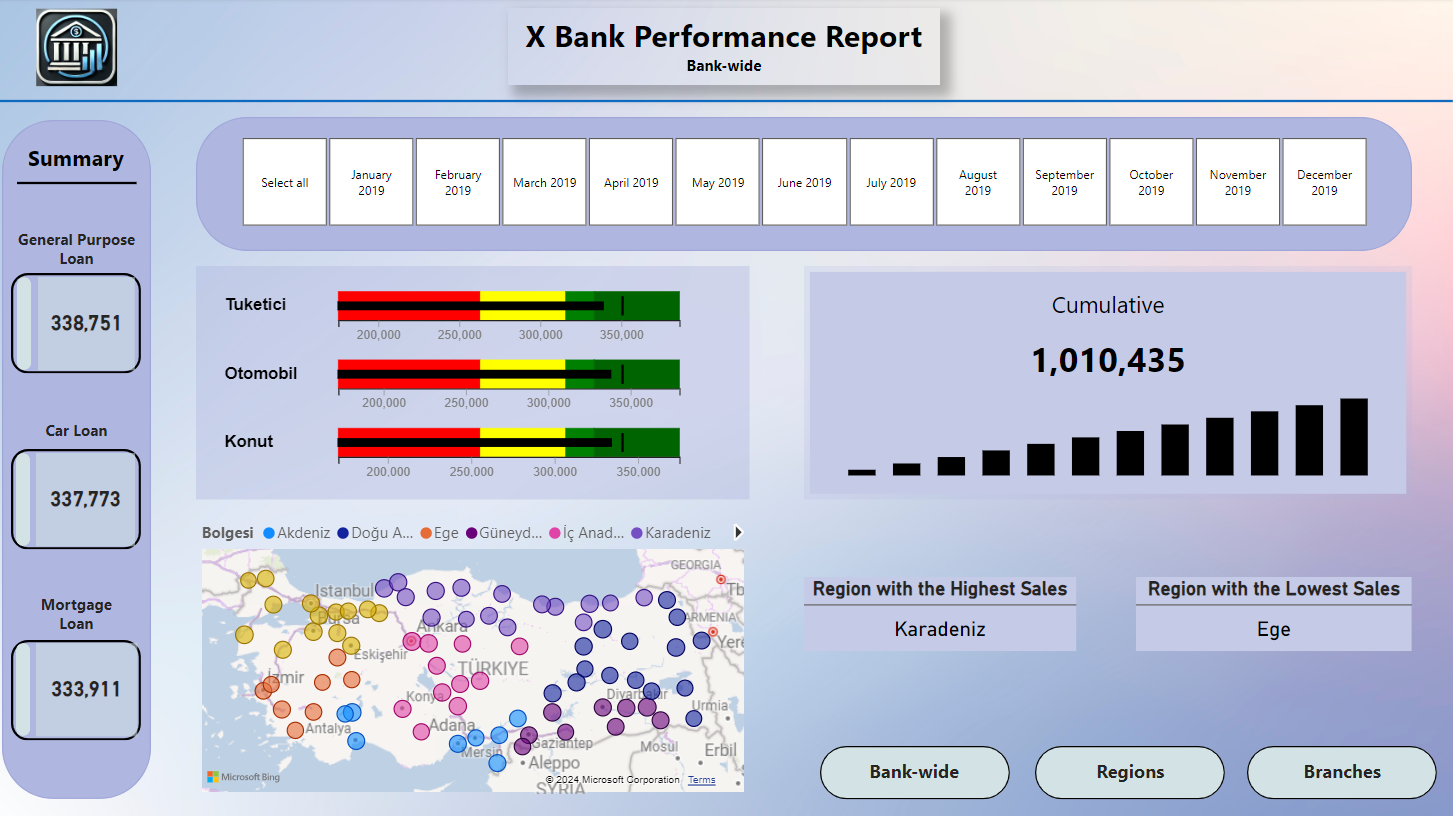

This screenshot's page, from the dashboard's own definition file:
{"tool":"powerbi","page":{"name":"Bank","canvas":[1280,720],"ordinal":0},"visuals":[{"type":"textbox","box":[450.4,8.8,379.3,68.5],"z":0},{"type":"shape","box":[0,58,1280.2,65],"z":1000},{"type":"shape","box":[6.1,107.1,130.8,596.2],"z":2000},{"type":"textbox","box":[14.2,123.3,114.2,39.2],"z":3000},{"type":"shape","box":[19.3,147.5,105.4,29.9],"z":4000},{"type":"shape","box":[14.2,241.7,114.2,88.3],"z":5000},{"type":"shape","box":[14.2,396.2,114.2,88.3],"z":6000},{"type":"shape","box":[14.2,563.3,114.2,88.3],"z":7000},{"type":"textbox","box":[7.5,197.5,127.5,49.2],"z":8000},{"type":"shape","box":[19.2,245,12.5,81.7],"z":9000},{"type":"shape","box":[18.3,399.5,12.5,81.7],"z":10000},{"type":"shape","box":[18.3,566.7,12.5,81.7],"z":11000},{"type":"textbox","box":[30,365.4,83.3,30.8],"z":12000},{"type":"image","box":[20,4.2,102.5,78.3],"z":13000},{"type":"textbox","box":[20,518.3,102.5,45],"z":14000},{"type":"shape","box":[1099.2,656.7,166.7,46.7],"z":15000},{"type":"shape","box":[913.3,656.7,166.7,46.7],"z":16000},{"type":"shape","box":[724.2,656.7,166.7,46.7],"z":17000},{"type":"textbox","box":[745.8,663.3,123.3,33.3],"z":18000},{"type":"textbox","box":[935,663.3,123.3,33.3],"z":19000},{"type":"textbox","box":[1120.8,663.3,123.3,33.3],"z":20000},{"type":"card","fields":{"Values":["Measurements.General Purpose Loan Sales"]},"box":[37.8,245,85.2,81.7],"z":21000},{"type":"card","fields":{"Values":["Measurements.Car Loan Sales"]},"box":[36,399.5,86.9,81.7],"z":22000},{"type":"card","fields":{"Values":["Measurements.Mortgage Loan Sales"]},"box":[36,566.3,88.7,81.7],"z":23000},{"type":"shape","box":[176.5,104.5,1067.7,117.7],"z":24000},{"type":"slicer","fields":{"Values":["Loans.Ay"]},"box":[191.4,115.9,1037,91.3],"z":25000},{"type":"BulletChart1443347686880","fields":{"Value":["Measurements.Total Loan Sales"],"TargetValue":["Measurements.Total Loan Target"],"Category":["Loans.Kategori"]},"box":[176.5,235.3,486.4,205.5],"z":26000},{"type":"KPIStatusWithHistory1446562283967","fields":{"Values":["Measurements.Cumulative"],"Category":["Loans.Ay"]},"box":[710.3,235.3,533.9,205.5],"z":27000},{"type":"card","title":"Region with the Highest Sales","fields":{"Values":["Min(Branches.Bolgesi)"]},"box":[710.3,508.4,238.8,65],"z":28000},{"type":"card","title":"Region with the Lowest Sales","fields":{"Values":["Min(Branches.Bolgesi)"]},"box":[1001.9,508.4,242.3,65],"z":29000},{"type":"map","fields":{"Size":["Measurements.Total Loan Sales"],"Category":["Branches.Konum"],"Series":["Branches.Bolgesi"]},"box":[176.5,449.6,486.4,253.8],"z":30000}]}

Visuals, with their boxes in screenshot pixels (x1, y1, x2, y2), scaled from the page's 1280x720 canvas onto the 1453x816 screenshot:
textbox: (511,10,942,88)
shape: (0,66,1452,139)
shape: (7,121,155,797)
textbox: (16,140,146,184)
shape: (22,167,142,201)
shape: (16,274,146,374)
shape: (16,449,146,549)
shape: (16,638,146,738)
textbox: (9,224,153,280)
shape: (22,278,36,370)
shape: (21,453,35,545)
shape: (21,642,35,735)
textbox: (34,414,129,449)
image: (23,5,139,94)
textbox: (23,587,139,638)
shape: (1248,744,1437,797)
shape: (1037,744,1226,797)
shape: (822,744,1011,797)
textbox: (847,752,987,789)
textbox: (1061,752,1201,789)
textbox: (1272,752,1412,789)
card - Measurements.General Purpose Loan Sales: (43,278,140,370)
card - Measurements.Car Loan Sales: (41,453,140,545)
card - Measurements.Mortgage Loan Sales: (41,642,142,734)
shape: (200,118,1412,252)
slicer - Loans.Ay: (217,131,1394,235)
BulletChart1443347686880 - Measurements.Total Loan Sales x Measurements.Total Loan Target: (200,267,752,500)
KPIStatusWithHistory1446562283967 - Measurements.Cumulative x Loans.Ay: (806,267,1412,500)
"Region with the Highest Sales" card: (806,576,1077,650)
"Region with the Lowest Sales" card: (1137,576,1412,650)
map - Measurements.Total Loan Sales x Branches.Konum: (200,510,752,797)
